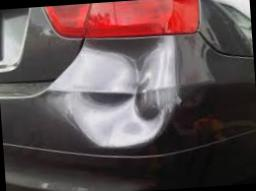Bumper: (43, 32, 202, 156)
